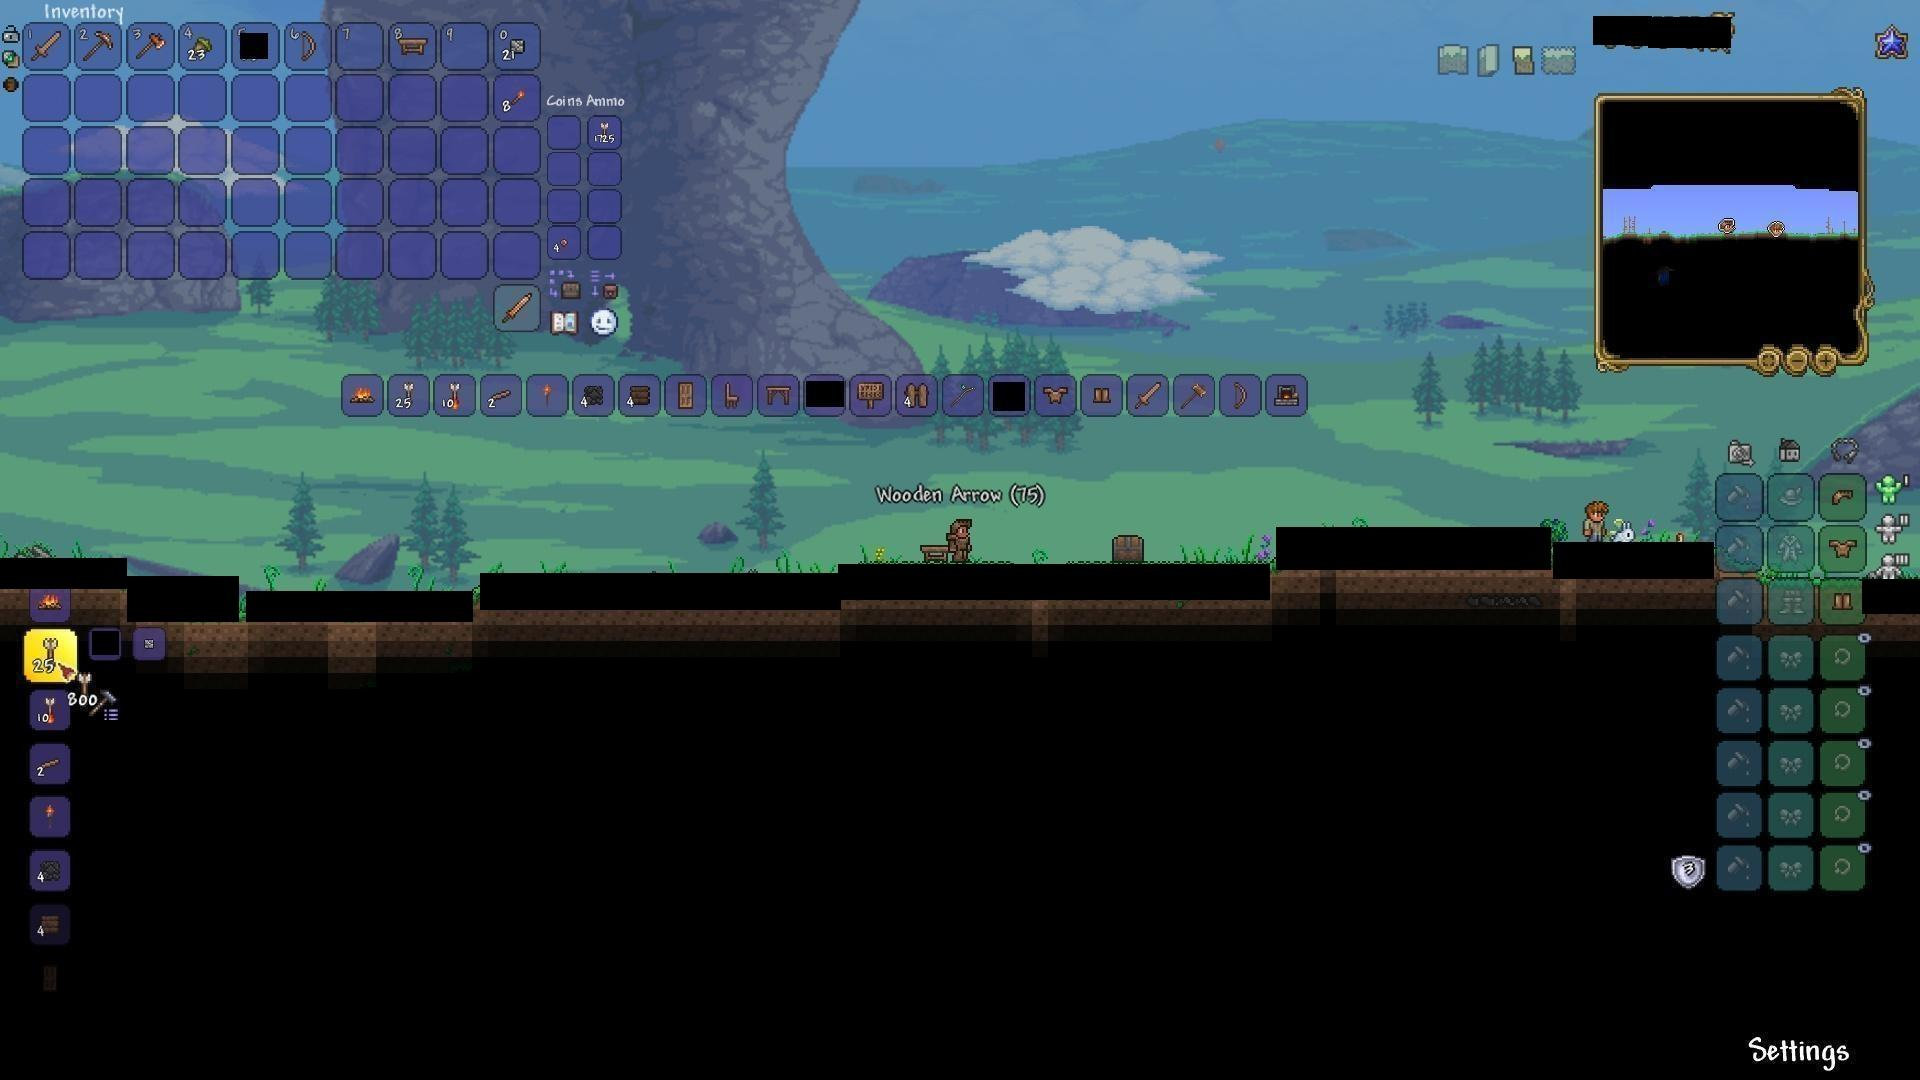breastplate: (1829, 537, 1859, 559), (1040, 386, 1069, 407)
helmet: (1826, 483, 1859, 512)
legs: (1091, 381, 1116, 409), (1832, 589, 1855, 617)
workbench: (394, 36, 431, 61), (918, 541, 955, 564)
